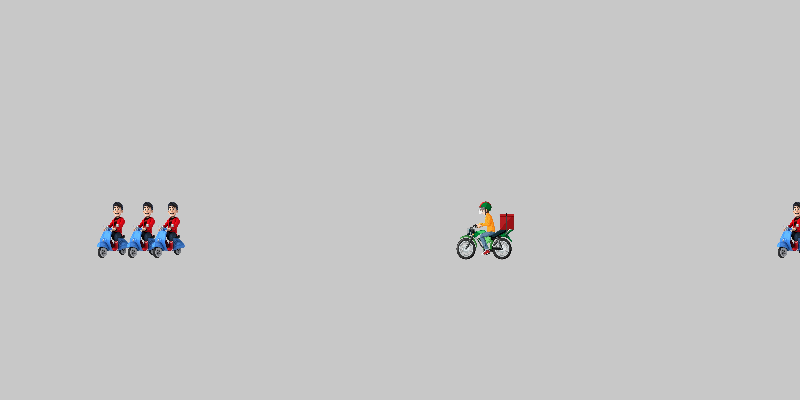helmet: (455, 200, 515, 260)
no_helmet: (85, 200, 145, 260), (115, 200, 175, 260), (140, 200, 200, 260), (765, 200, 800, 260)
